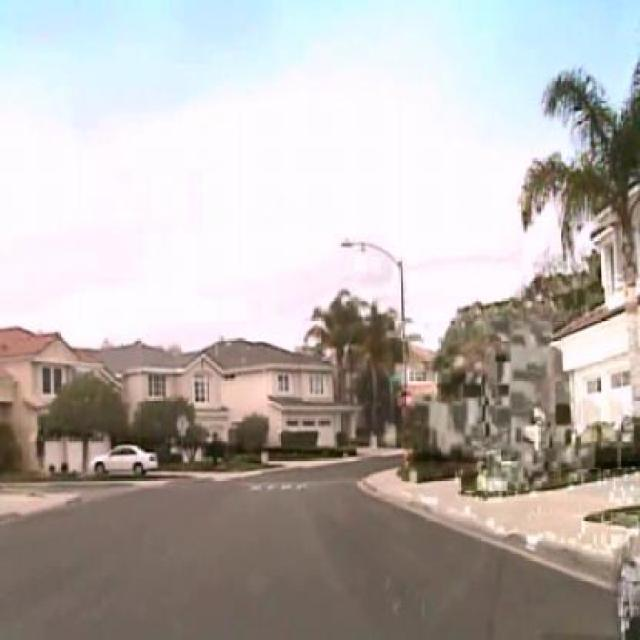stop: (397, 388, 413, 412)
